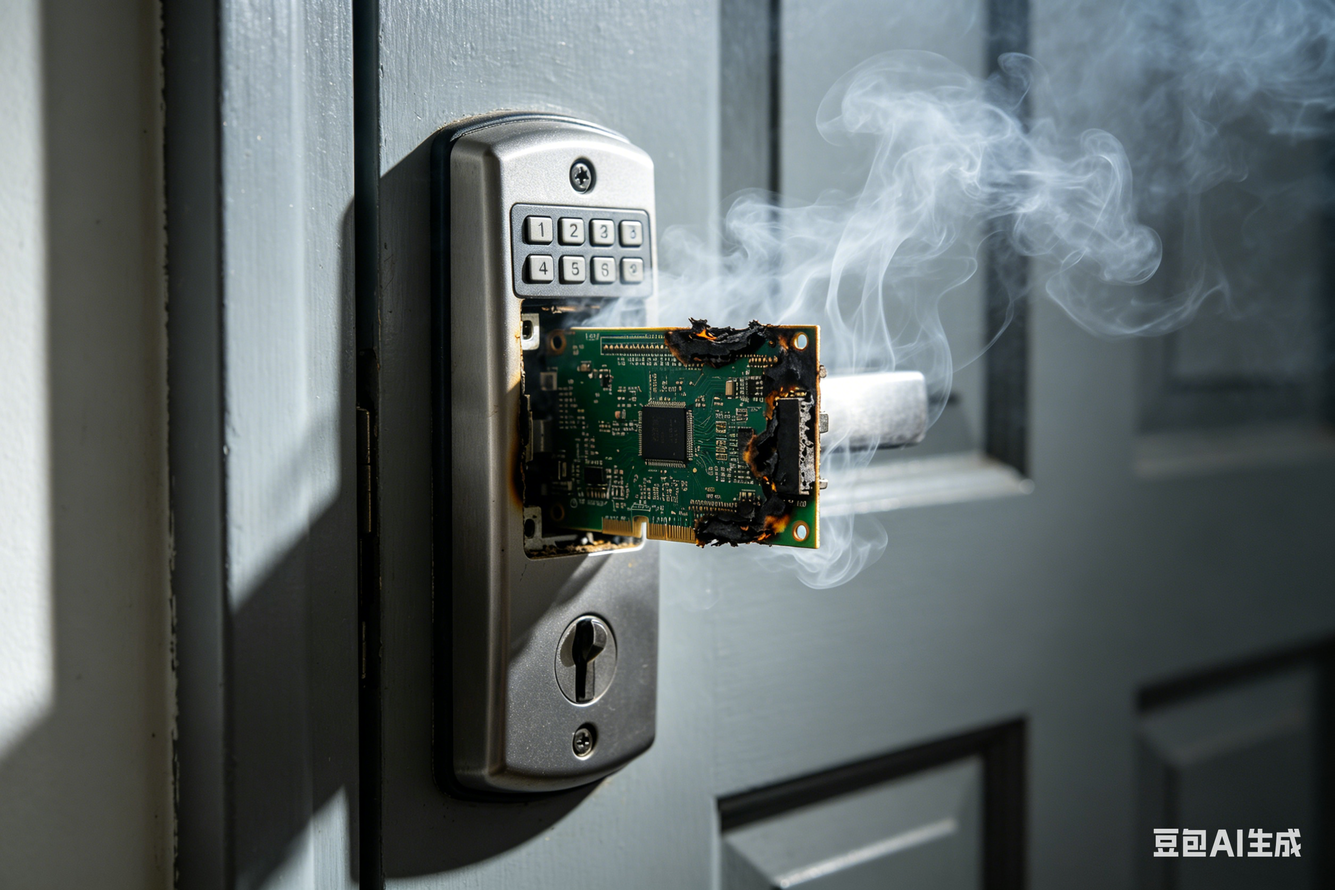BadLock: (493, 280, 833, 565)
